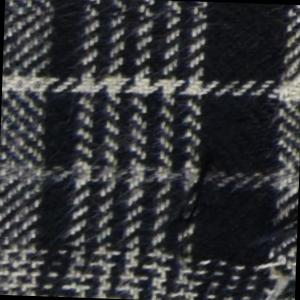Damage: (149, 200, 299, 300)
